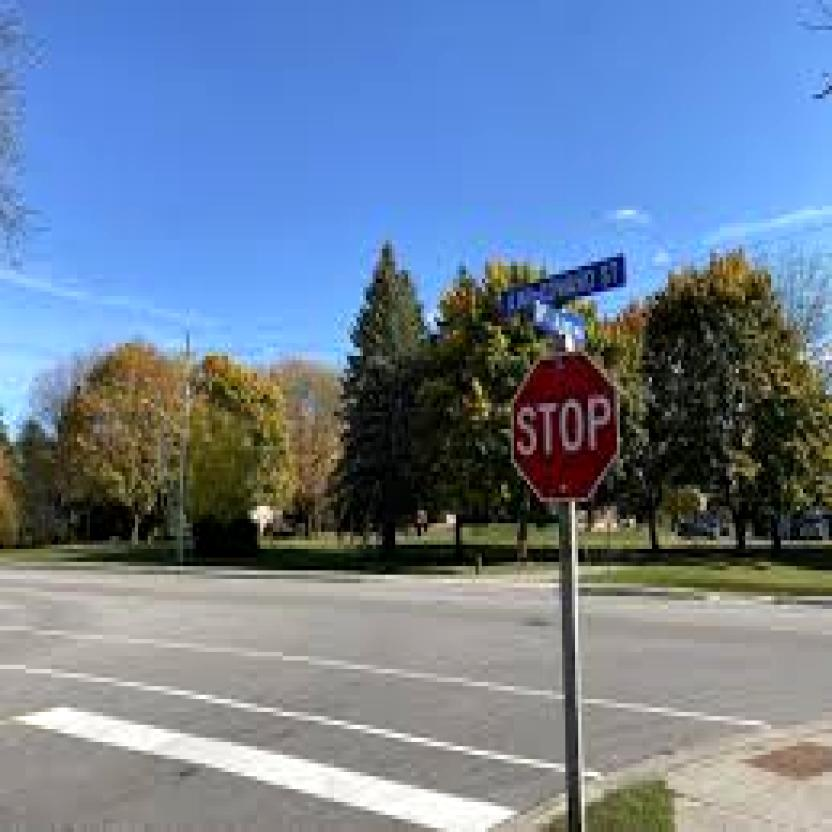Pole: (561, 517, 586, 826)
Sign: (506, 350, 624, 505)
